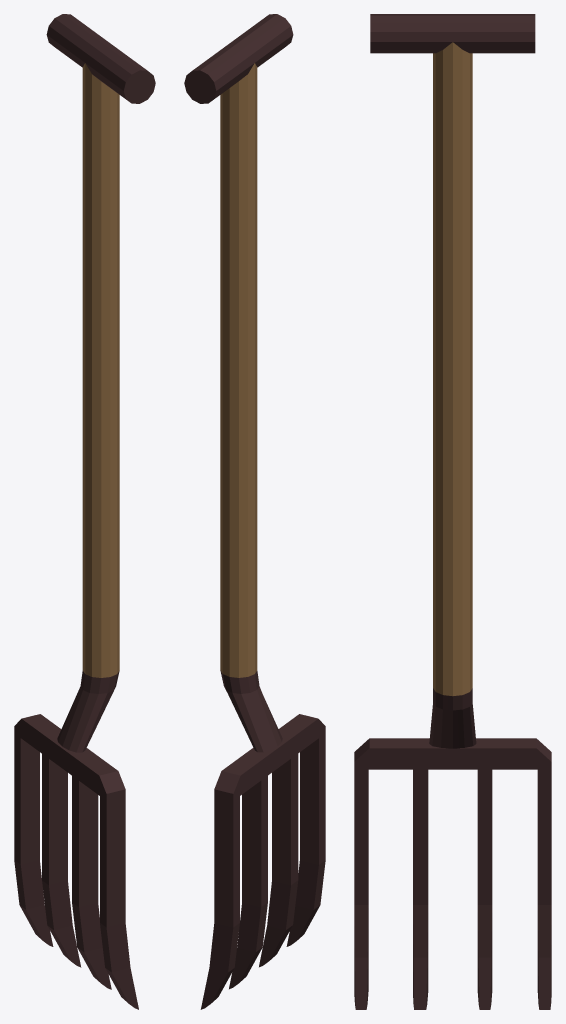
File: Fork.fbx
The picture shows the model from 3 angles, left to right: view 1: azimuth 30°, elevation 25°; view 2: azimuth 150°, elevation 25°; view 3: azimuth 270°, elevation 25°; orthographic projection. The views are drawn at different scales.
Parts seen in each view (by area): view 1: Object; view 2: Object; view 3: Object.
Boxes of the visible parts, bbox=[...] form: Object: bbox=[14, 14, 155, 1009]; Object: bbox=[184, 14, 325, 1009]; Object: bbox=[354, 14, 551, 1009].
Size of the model in its own units: 10.63 by 167 by 29.95.
